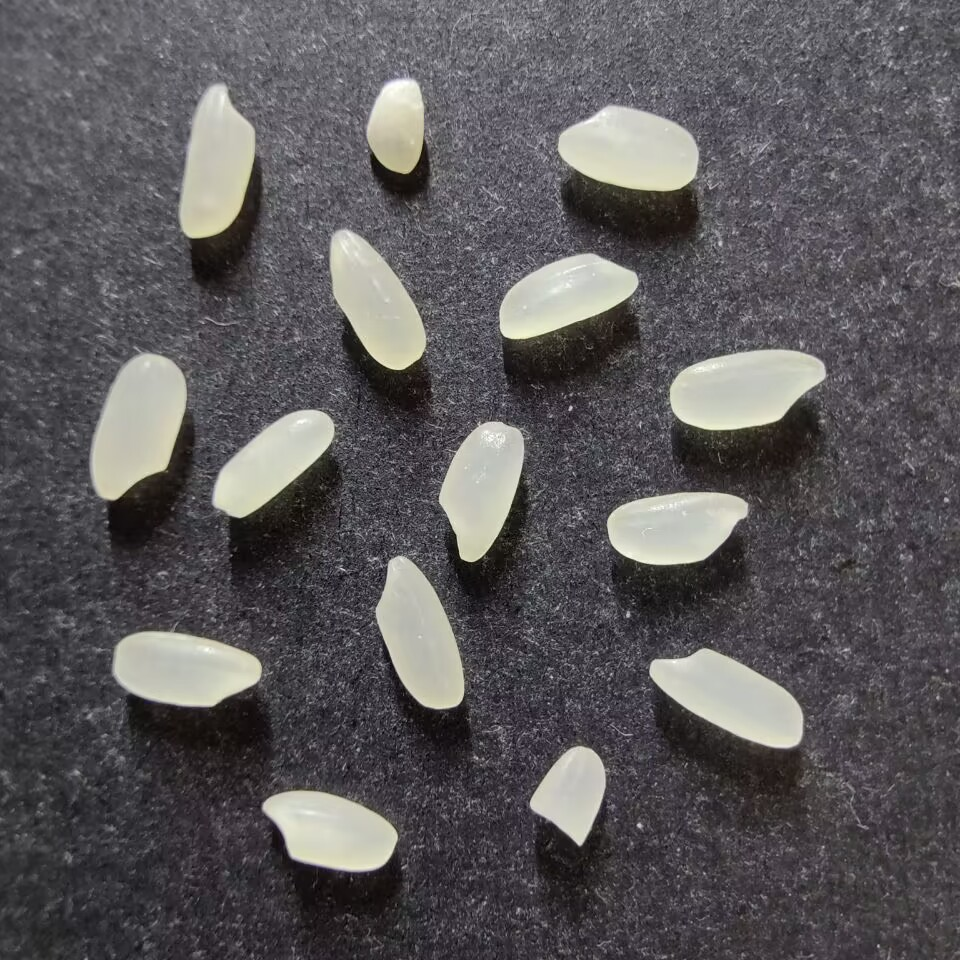broken: (528, 745, 606, 846), (364, 78, 423, 174)
rice: (648, 647, 804, 749), (89, 353, 186, 500), (328, 228, 427, 371), (374, 555, 465, 710), (211, 409, 334, 518), (669, 349, 826, 430), (437, 420, 525, 563), (556, 104, 698, 192), (498, 252, 639, 340), (179, 82, 255, 239), (112, 630, 262, 708), (260, 790, 398, 872), (606, 491, 748, 566)
